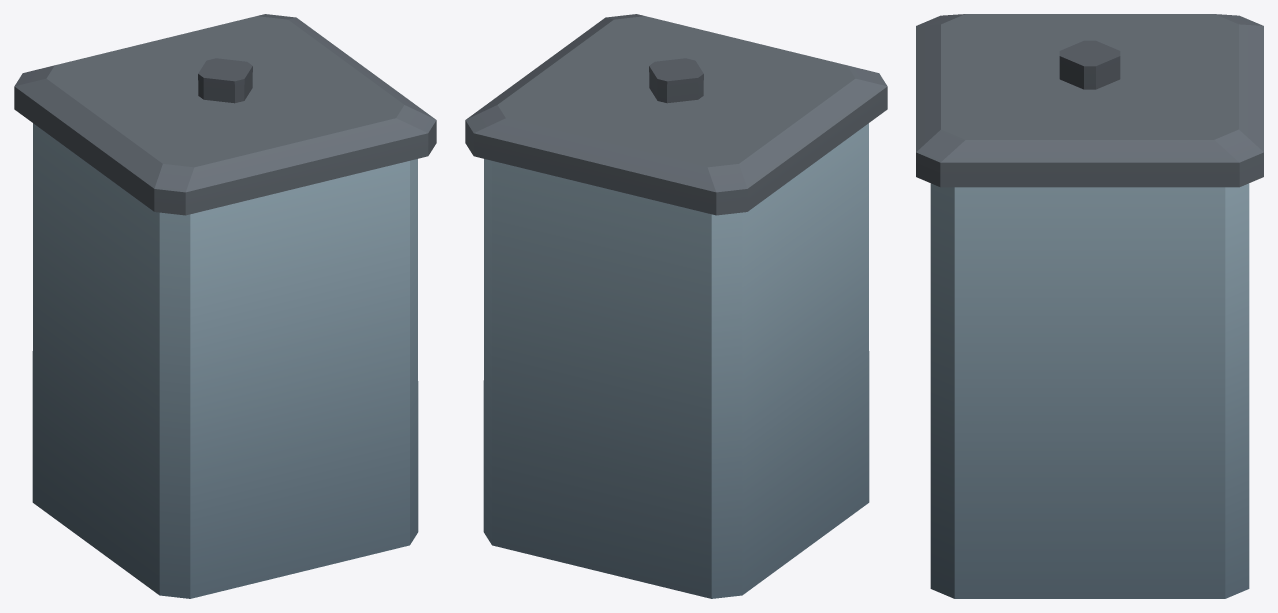
The model's file is KitchenProps_15.fbx.
3 renders of one model, left to right at view 1: azimuth 30°, elevation 25°; view 2: azimuth 150°, elevation 25°; view 3: azimuth 270°, elevation 25°, orthographic. The views are drawn at different scales.
Visible parts, largest first — view 1: KitchenProps_15; view 2: KitchenProps_15; view 3: KitchenProps_15.
Part boxes in pixels (x1=…): KitchenProps_15: x1=14, y1=14, x2=436, y2=598; KitchenProps_15: x1=465, y1=14, x2=887, y2=598; KitchenProps_15: x1=916, y1=14, x2=1263, y2=598.
Size of the model in its own units: 9.86 by 14.95 by 9.86.
